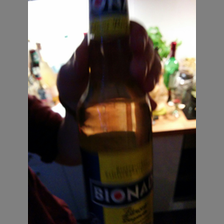soda: (75, 1, 156, 224)
